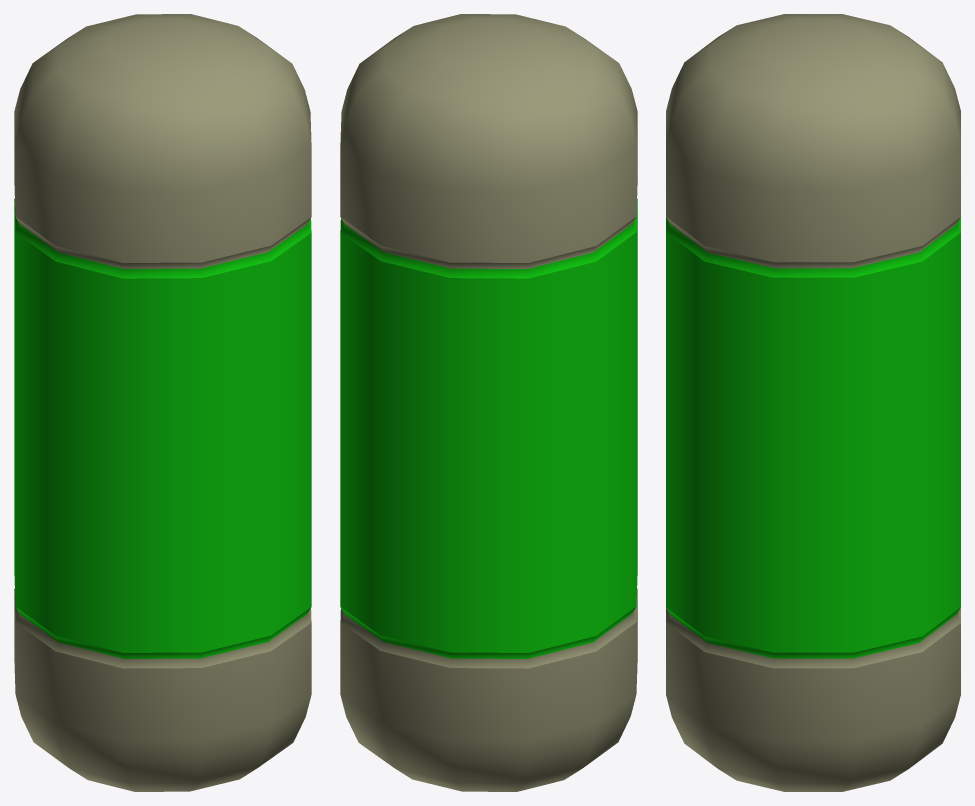
3 views of the same model, side by side, from view 1: azimuth 30°, elevation 25°; view 2: azimuth 150°, elevation 25°; view 3: azimuth 270°, elevation 25° (orthographic).
Parts seen in each view (by area): view 1: Capsule; view 2: Capsule; view 3: Capsule.
Boxes of the visible parts, bbox=[...] form: Capsule: bbox=[14, 14, 311, 791]; Capsule: bbox=[340, 14, 637, 791]; Capsule: bbox=[666, 14, 960, 791].
Size of the model in its own units: 72.3 by 72.3 by 197.
